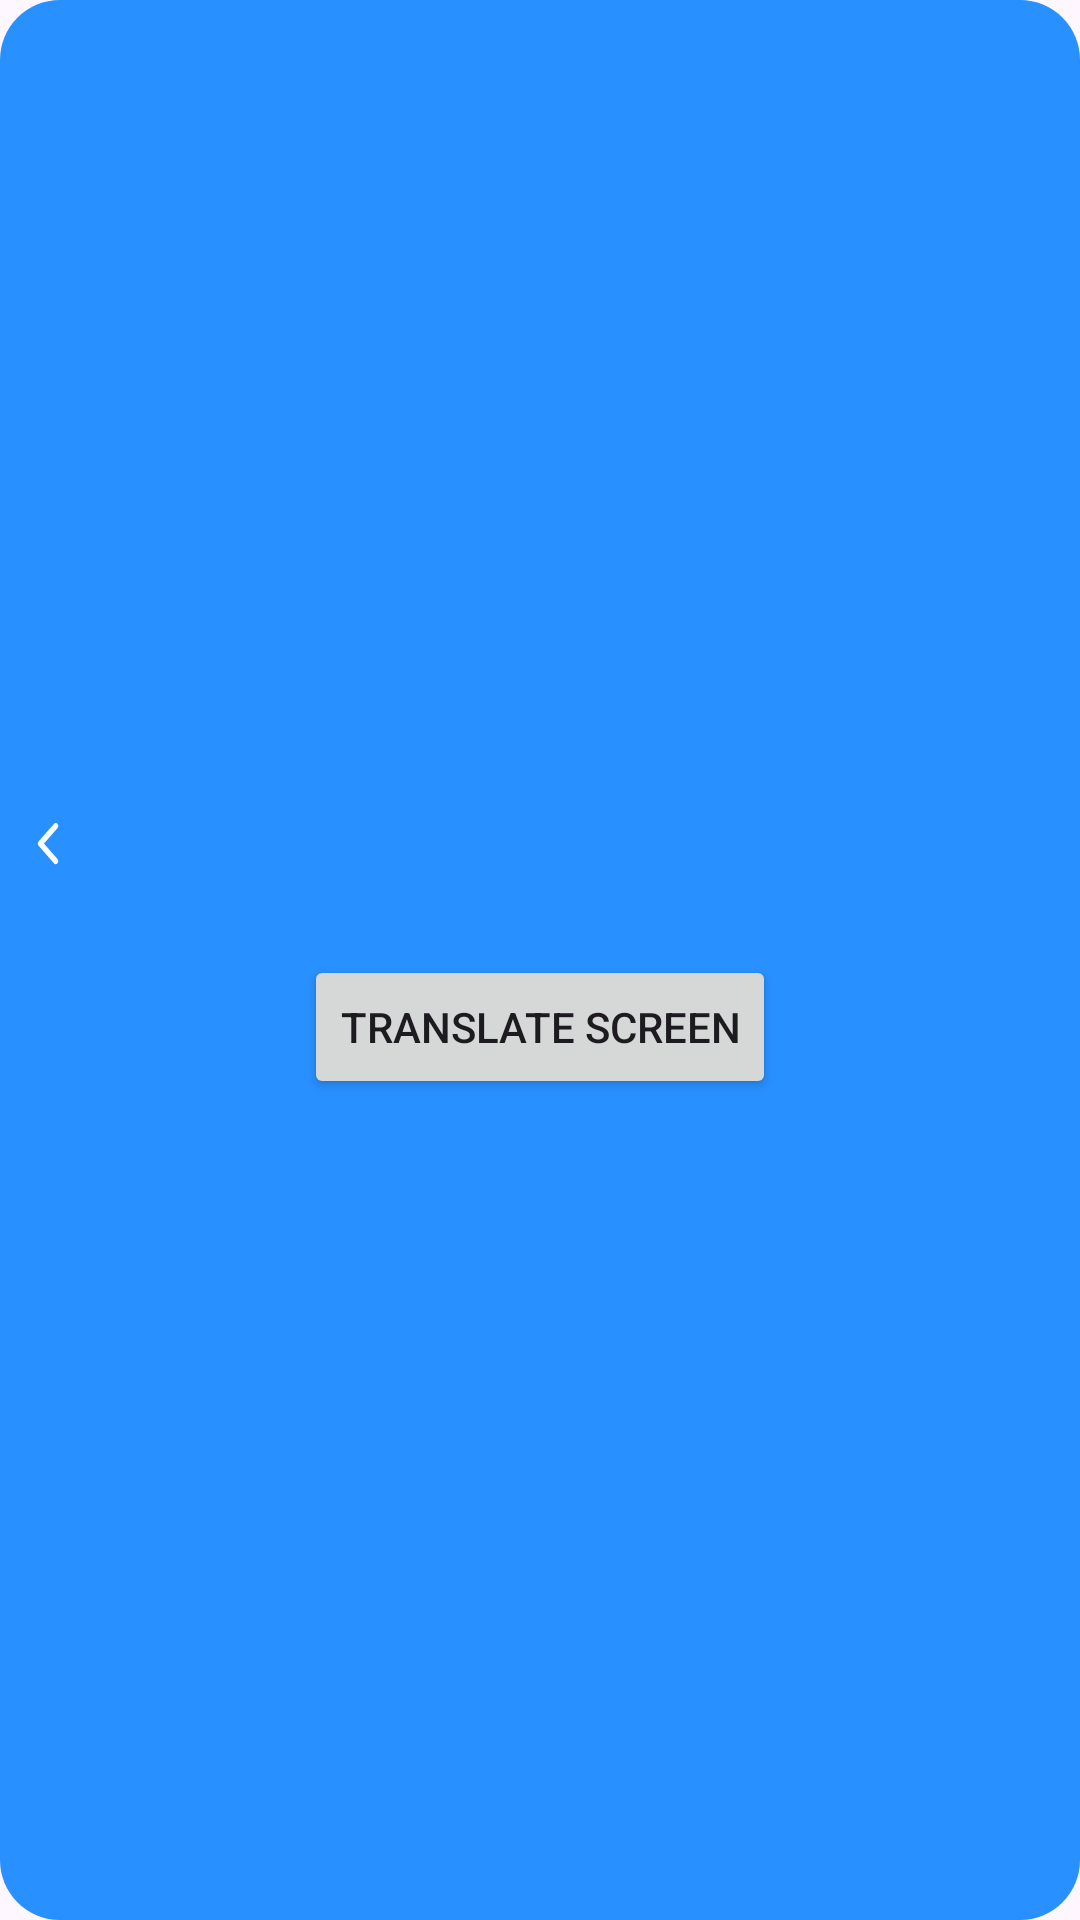

Where to tap for icons on this 1080 x 1920 app screen, as (x,y):
back: (48,844)
